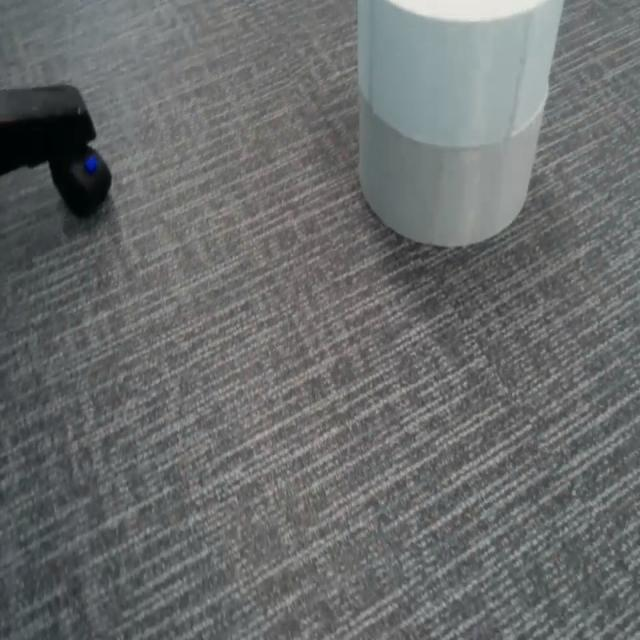cylinder: (356, 0, 564, 248)
